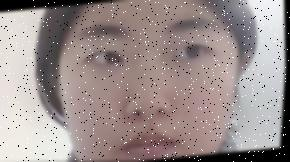eye: (105, 51, 120, 64), (186, 44, 201, 57)
iris: (85, 50, 126, 68), (174, 43, 214, 61)
